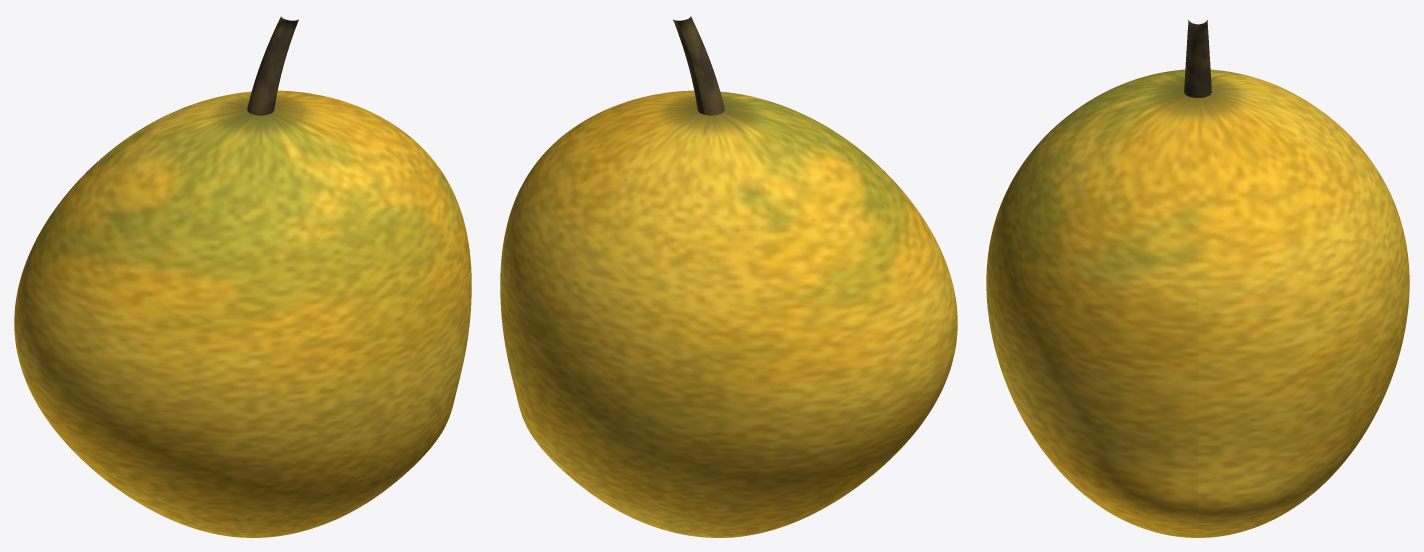
The model's file is mangue-lucie.glb.
3 views of the same model, side by side, from view 1: azimuth 30°, elevation 25°; view 2: azimuth 150°, elevation 25°; view 3: azimuth 270°, elevation 25° (orthographic). The views are drawn at different scales.
Visible parts, largest first — view 1: entier_peau, moitie_A_peau, moitie_B_peau, entier_extra0; view 2: entier_peau, moitie_B_peau, moitie_A_peau, entier_extra0; view 3: entier_peau, moitie_A_peau, moitie_B_peau, entier_extra0.
Part boxes in pixels (<box>): entier_peau: <box>14,90,471,537</box>; moitie_A_peau: <box>40,104,471,537</box>; moitie_B_peau: <box>14,90,380,467</box>; entier_extra0: <box>247,16,298,115</box>; entier_peau: <box>500,90,957,537</box>; moitie_B_peau: <box>500,103,931,537</box>; moitie_A_peau: <box>586,90,957,466</box>; entier_extra0: <box>673,16,724,115</box>; entier_peau: <box>986,69,1409,537</box>; moitie_A_peau: <box>986,69,1196,537</box>; moitie_B_peau: <box>1199,69,1409,537</box>; entier_extra0: <box>1184,20,1211,97</box>.
Bounding box in the file's own units: 0.0927 × 0.1086 × 0.0806.
3 materials, 3 textured.
